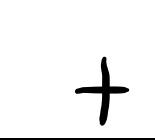plus: (75, 57, 130, 126)
